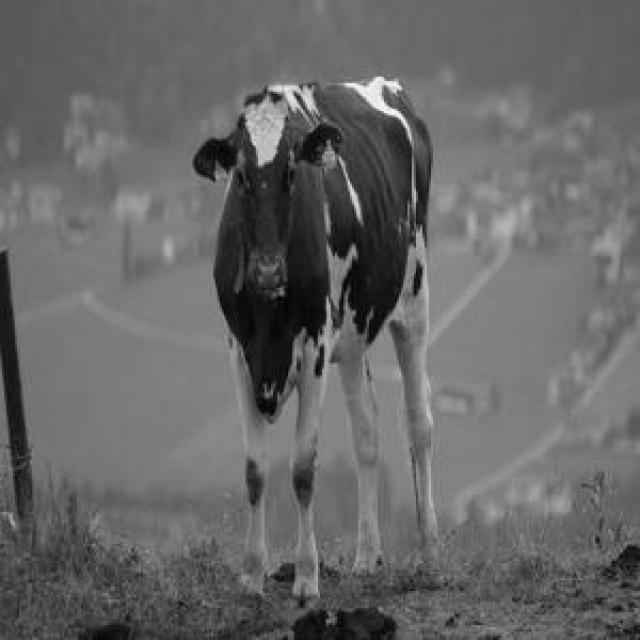cow: (194, 78, 436, 599)
